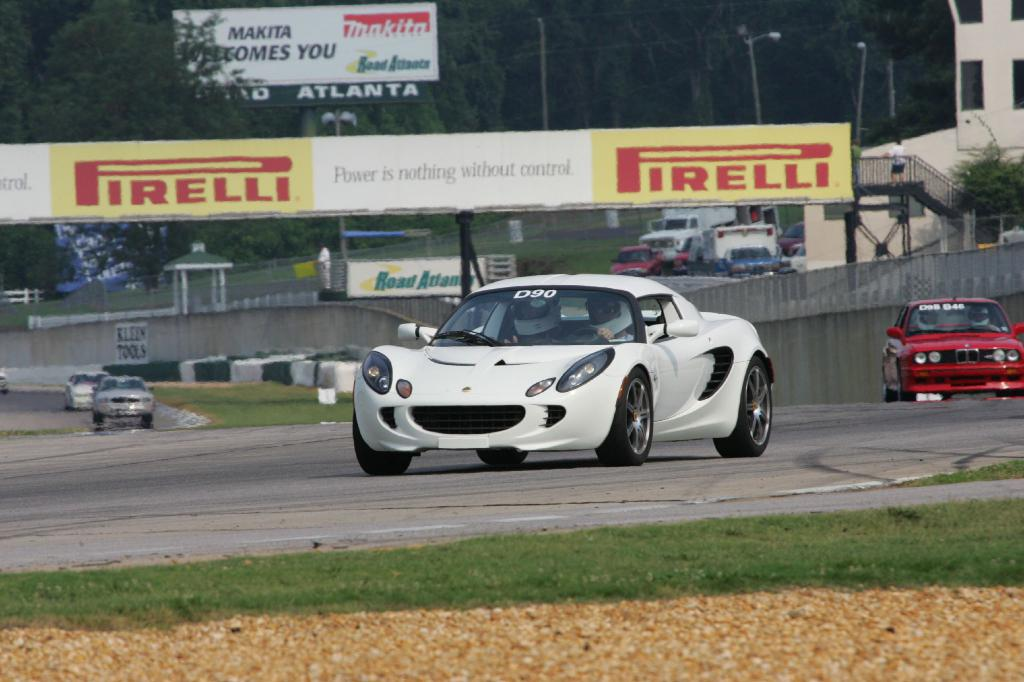cars: (335, 269, 783, 476), (881, 293, 1023, 403), (89, 377, 157, 422), (63, 372, 109, 410), (606, 242, 657, 273), (779, 218, 804, 257)
